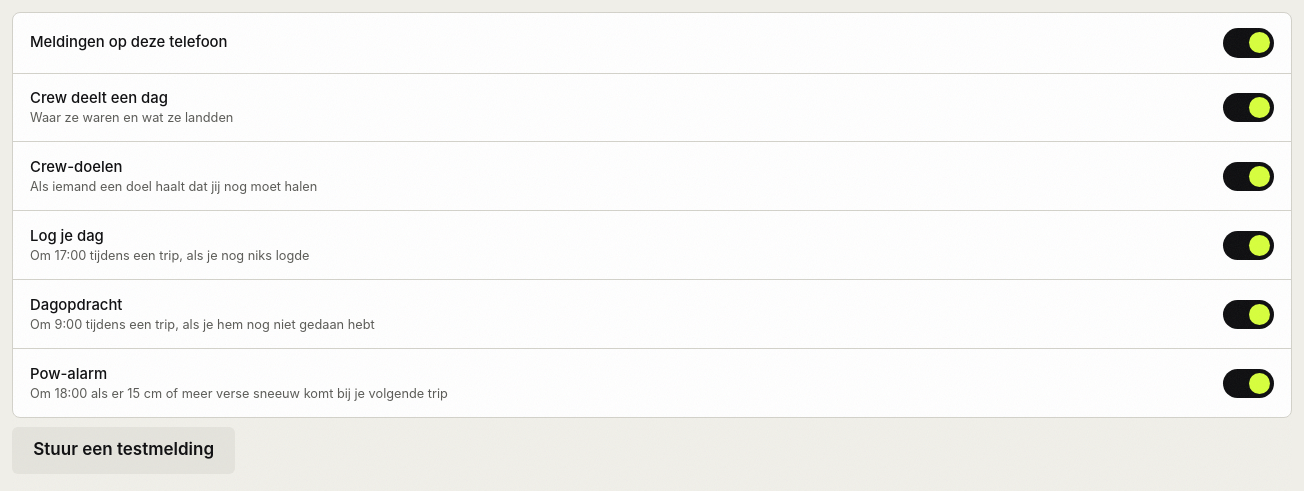
Test: meldingen in Instellingen › helemaal uit
The width and height of the screenshot is (1304, 491).
Click the switch labelled "Meldingen op deze telefoon" at (129, 42), box [13, 13, 1291, 74]
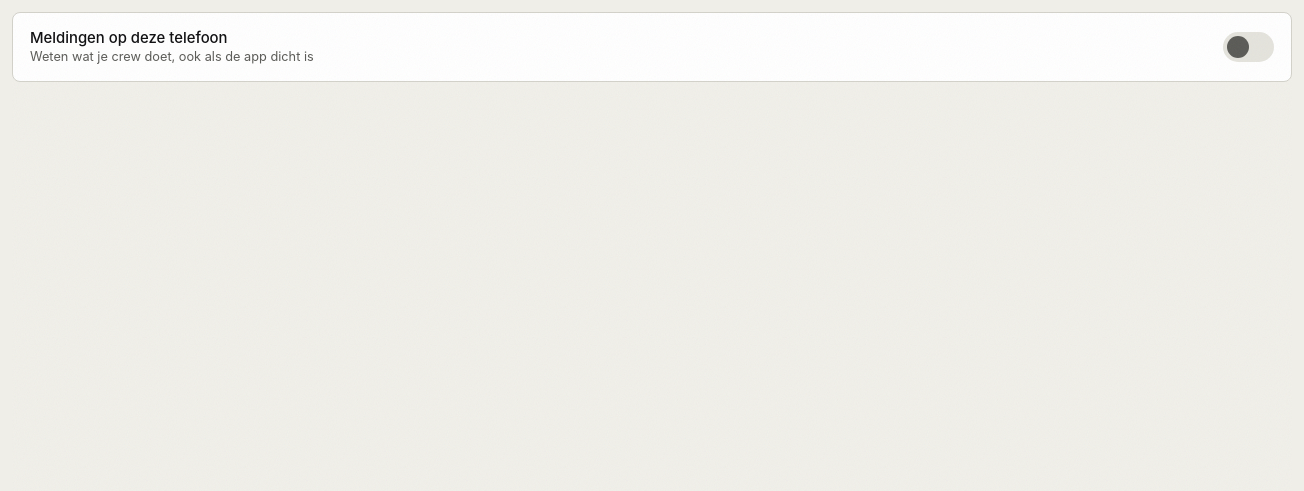
Now the switch labelled "Crew deelt een dag" is gone
